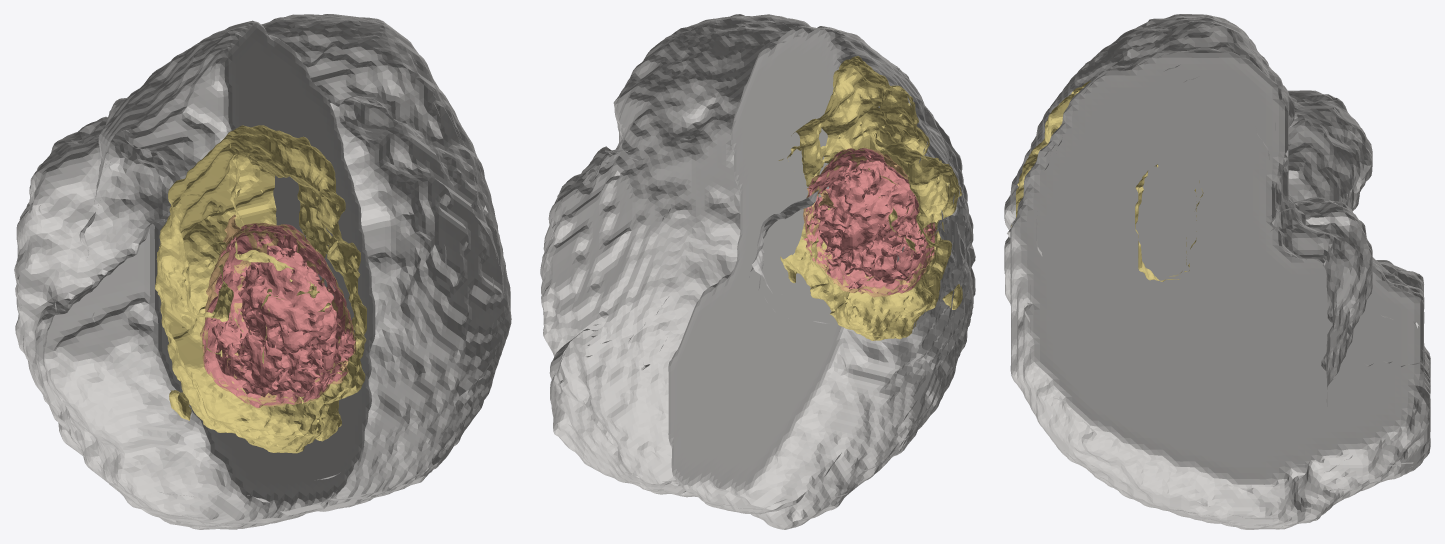
The picture shows the model from 3 angles, left to right: view 1: azimuth 30°, elevation 25°; view 2: azimuth 150°, elevation 25°; view 3: azimuth 270°, elevation 25°; orthographic projection. The views are drawn at different scales.
Visible parts, largest first — view 1: brain_left, brain_right, edema, enhancing, core; view 2: brain_left, brain_right, edema, enhancing, core; view 3: brain_right, brain_left, edema.
Part boxes in pixels (x1,y1,x2,y2): brain_left: (14, 20, 375, 529); brain_right: (261, 14, 511, 511); edema: (155, 125, 366, 453); enhancing: (202, 223, 355, 407); core: (200, 214, 356, 408); brain_left: (668, 26, 975, 529); brain_right: (540, 14, 815, 497); edema: (778, 56, 962, 340); enhancing: (804, 148, 936, 296); core: (803, 148, 936, 297); brain_right: (1004, 48, 1430, 529); brain_left: (1004, 14, 1430, 393); edema: (1011, 81, 1203, 281).
Bounding box in the file's own units: 136 × 160 × 132.
